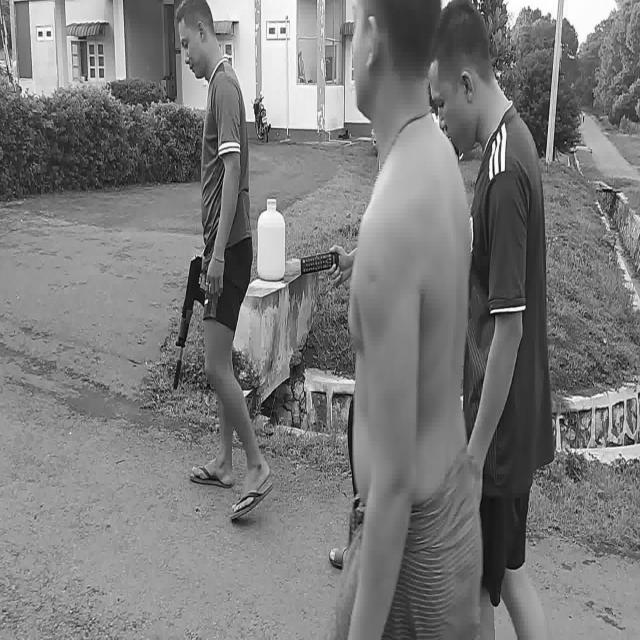gun: (173, 256, 205, 388)
